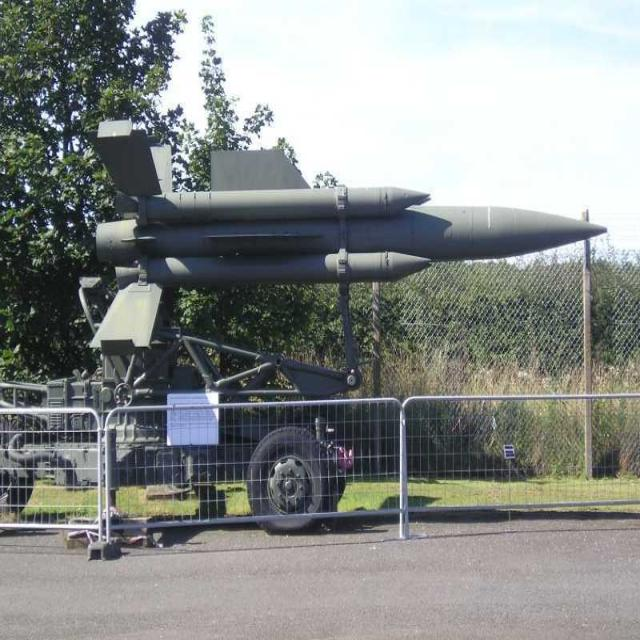missile: (92, 120, 611, 347)
